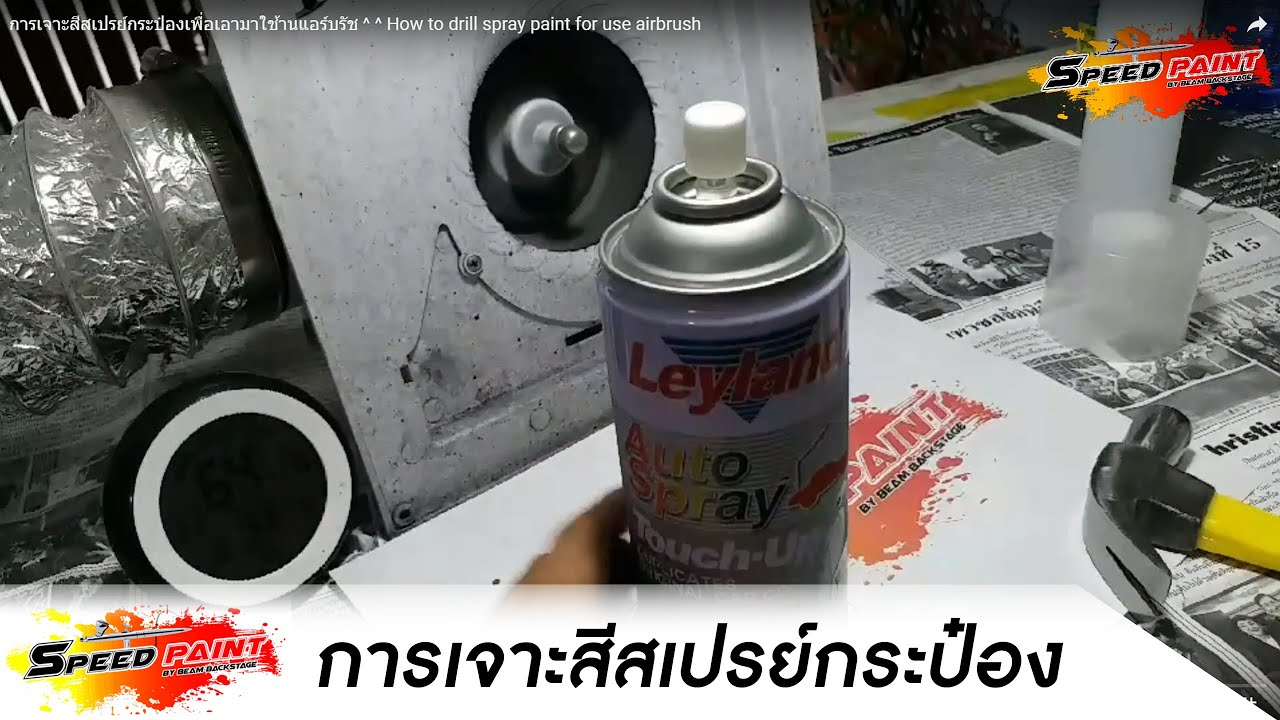Aerosol_cans: (590, 97, 855, 586)
